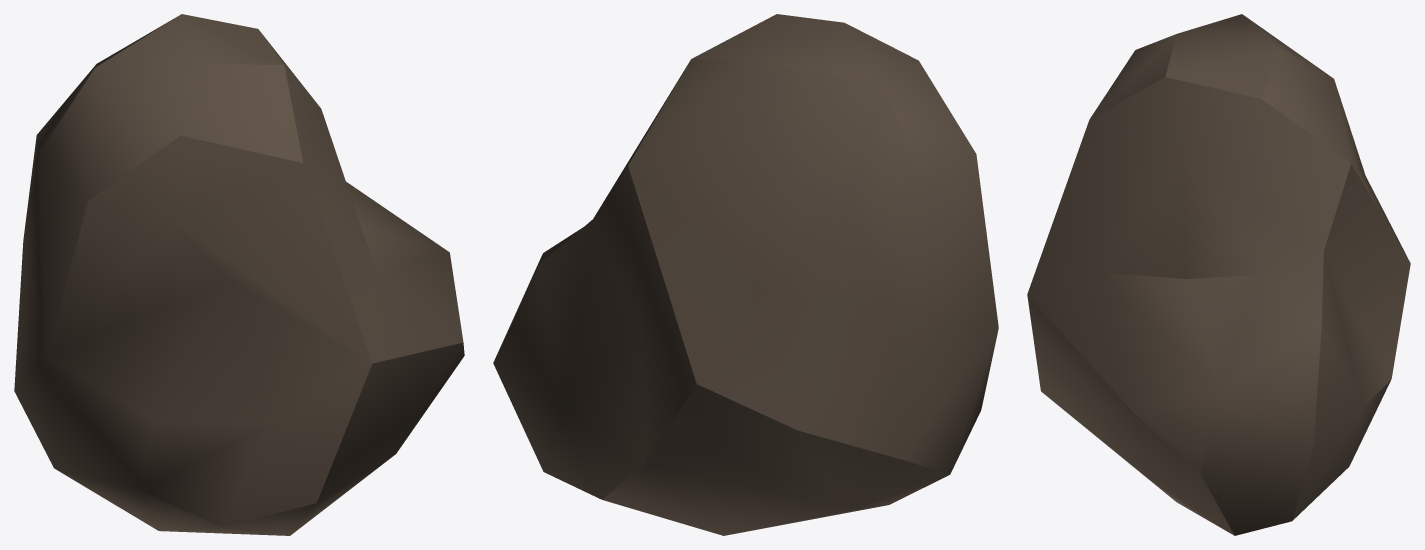
File: rock_002.fbx
The picture shows the model from 3 angles, left to right: view 1: azimuth 30°, elevation 25°; view 2: azimuth 150°, elevation 25°; view 3: azimuth 270°, elevation 25°; orthographic projection. The views are drawn at different scales.
Visible parts, largest first — view 1: rock.002; view 2: rock.002; view 3: rock.002.
Part boxes in pixels (left/top/right/bottom): rock.002: left=14, top=14, right=464, bottom=535; rock.002: left=493, top=14, right=998, bottom=535; rock.002: left=1027, top=14, right=1410, bottom=535.
Size of the model in its own units: 111 by 123 by 98.7.
